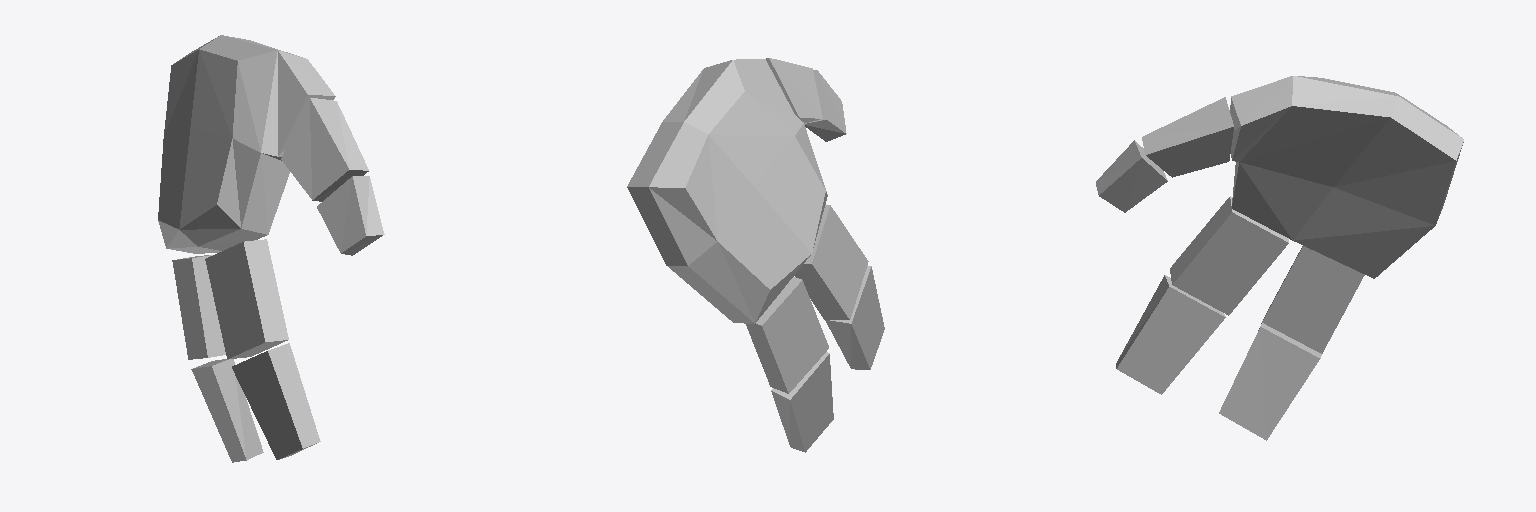
The model's file is HandR.obj.
3 renders of one model, left to right at view 1: azimuth 30°, elevation 25°; view 2: azimuth 150°, elevation 25°; view 3: azimuth 270°, elevation 25°, orthographic.
Visible parts, largest first — view 1: HandR_Cube.009; view 2: HandR_Cube.009; view 3: HandR_Cube.009.
Boxes of the visible parts, <box> form: HandR_Cube.009: <box>158,35,384,462</box>; HandR_Cube.009: <box>627,58,884,452</box>; HandR_Cube.009: <box>1096,76,1463,440</box>.
Size of the model in its own units: 0.2623 by 0.8065 by 0.6942.